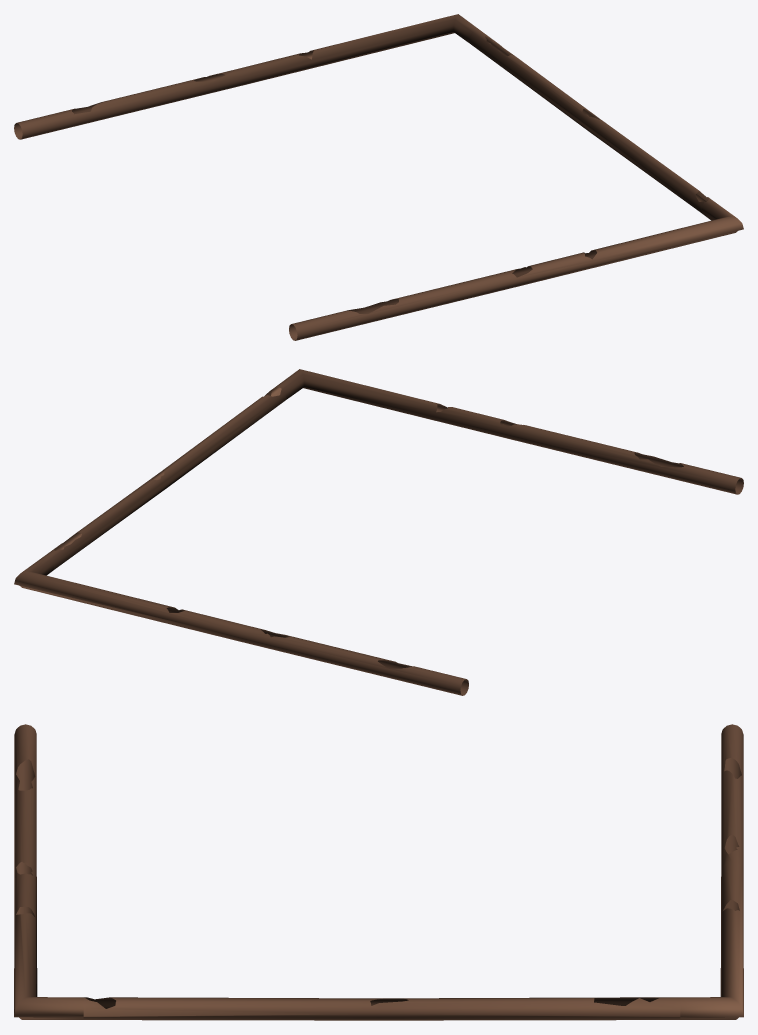
The model's file is Hrushevka.fbx.
3 renders of one model, top to bottom at view 1: azimuth 30°, elevation 25°; view 2: azimuth 150°, elevation 25°; view 3: azimuth 270°, elevation 25°, orthographic. The views are drawn at different scales.
Visible parts, largest first — view 1: BezierCurve.003, BezierCurve.004, BezierCurve.002; view 2: BezierCurve.004, BezierCurve.003, BezierCurve.002; view 3: BezierCurve.002, BezierCurve.003, BezierCurve.004.
Part boxes in pixels (bbox=[...]): BezierCurve.003: bbox=[289, 200, 743, 340]; BezierCurve.004: bbox=[14, 14, 480, 139]; BezierCurve.002: bbox=[469, 30, 712, 212]; BezierCurve.004: bbox=[14, 556, 468, 695]; BezierCurve.003: bbox=[271, 369, 743, 494]; BezierCurve.002: bbox=[43, 387, 286, 569]; BezierCurve.002: bbox=[83, 997, 680, 1020]; BezierCurve.003: bbox=[14, 724, 83, 1019]; BezierCurve.004: bbox=[680, 724, 743, 1019].
Bounding box in the file's own units: 5223 × 192 × 5756.
